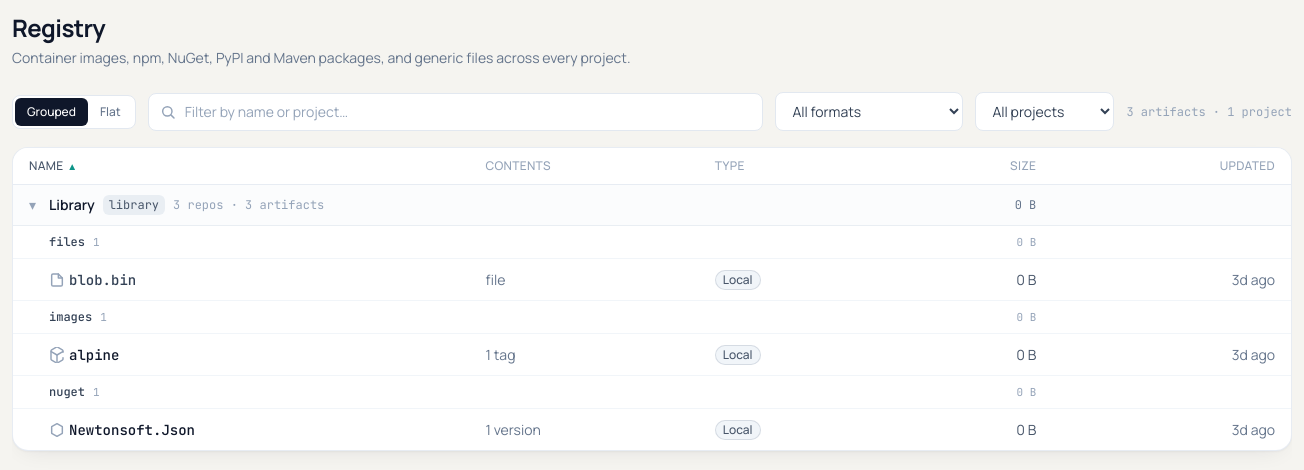
Test: RegistryPage › narrows to NuGet and to generic via the format dropdown
Check: the link "alpine" is shown, box [69,344,119,364]
Select "NuGet packages" in the dropdown named "Filter by format" at (869, 112), box [775,92,963,131]
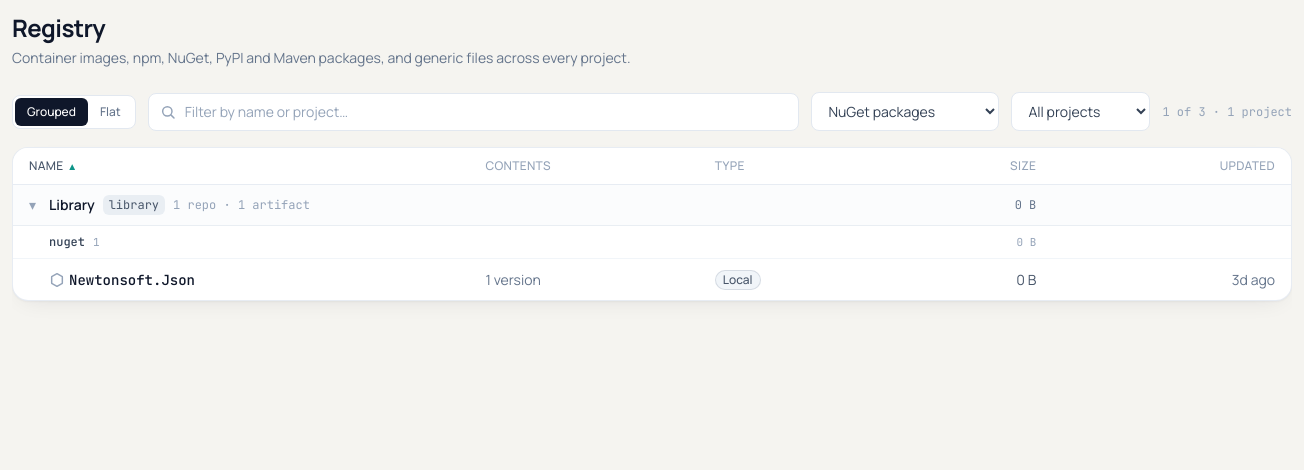
Check: the link "Newtonsoft.Json" is shown, box [69,270,195,290]
Check: the link "alpine" is gone
Check: the text "blob.bin" is gone
Select "Generic files" in the dropdown named "Filter by format" at (905, 112), box [811,92,999,131]
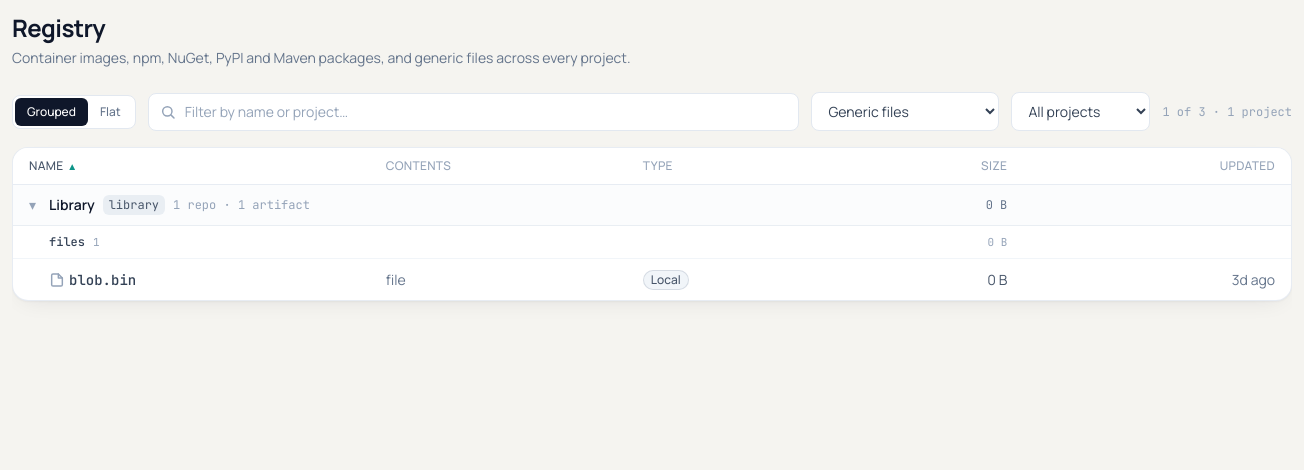
Check: the text "blob.bin" is shown, box [69,270,136,290]
Check: the link "Newtonsoft.Json" is gone
